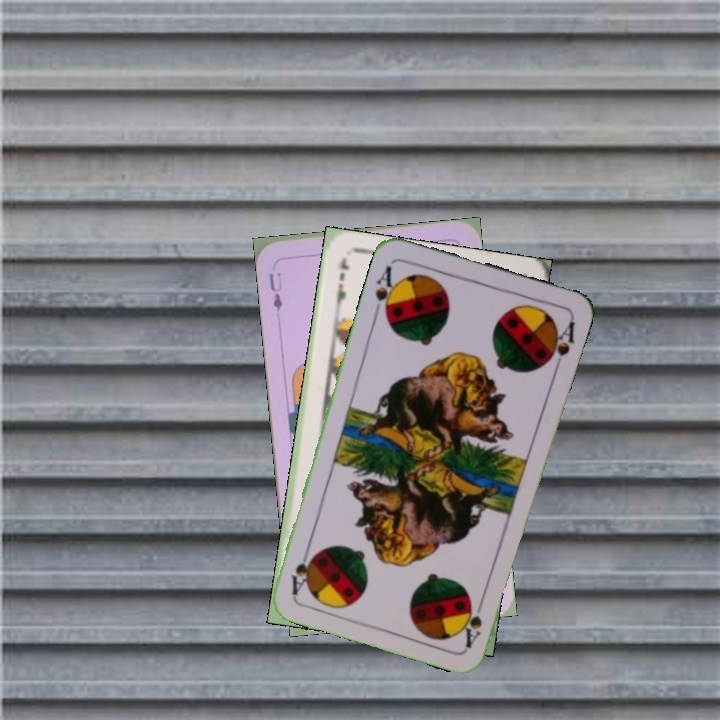E7: (332, 254, 352, 313)
EU: (265, 269, 285, 320)
SA: (370, 261, 401, 321), (459, 592, 487, 650)
